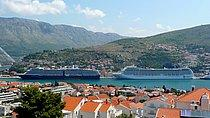Ship: (12, 64, 106, 84), (111, 64, 203, 84)
